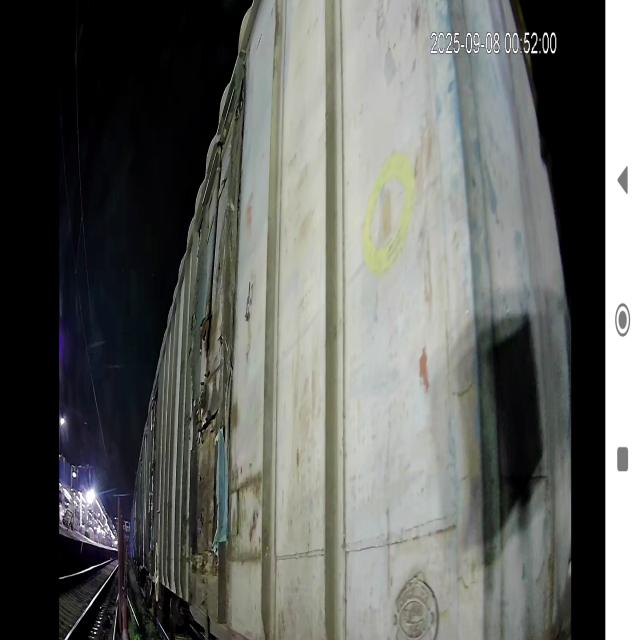coach: (144, 2, 512, 640)
